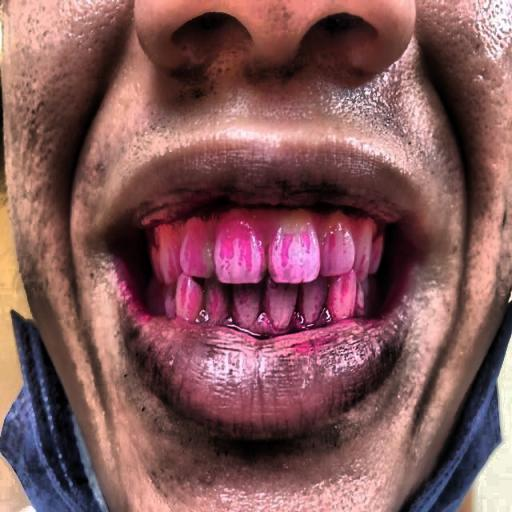Plaque: (134, 203, 394, 340)
